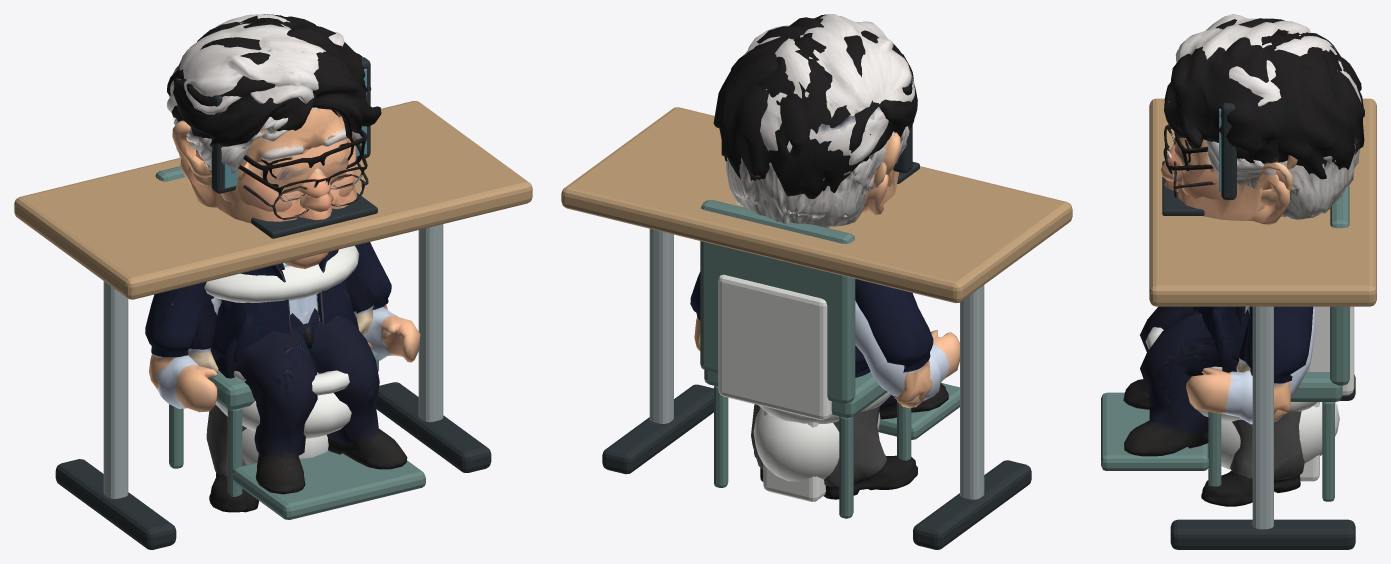
Rendered from school-residents.glb.
3 renders of one model, left to right at view 1: azimuth 30°, elevation 25°; view 2: azimuth 150°, elevation 25°; view 3: azimuth 270°, elevation 25°, orthographic. The views are drawn at different scales.
Visible parts, largest first — view 1: desktop, duty-resident body, gate-resident body, principal-resident body, desk foot, adjustable leg, footrest, basin, vice-principal-resident body, cistern, chair leg, chair seat (+1 smaller); view 2: desktop, gate-resident body, cistern, principal-resident body, chair back, duty-resident body, adjustable leg, desk foot, chair leg.001, vice-principal-resident body, chair leg.003, footrest (+3 smaller); view 3: desktop, principal-resident body, duty-resident body, gate-resident body, desk foot, adjustable leg, cistern, footrest, chair back, vice-principal-resident body, chair leg.003, chair seat (+2 smaller).
Part boxes in pixels (box(x1,y1,x2,y2)): desktop: box(14, 101, 532, 299); duty-resident body: box(156, 107, 420, 494); gate-resident body: box(145, 14, 391, 512); principal-resident body: box(158, 14, 381, 512); desk foot: box(55, 57, 491, 549); adjustable leg: box(103, 224, 443, 498); footrest: box(232, 450, 425, 519); basin: box(204, 245, 359, 302); vice-principal-resident body: box(188, 15, 375, 372); cistern: box(215, 370, 351, 464); chair leg: box(227, 408, 242, 496); chair seat: box(208, 348, 378, 409); desktop: box(561, 107, 1072, 303); gate-resident body: box(690, 14, 933, 499); cistern: box(718, 274, 891, 481); principal-resident body: box(700, 14, 924, 498); chair back: box(700, 200, 855, 403); duty-resident body: box(726, 126, 959, 419); adjustable leg: box(649, 229, 984, 499); desk foot: box(602, 76, 1031, 549); chair leg.001: box(839, 416, 853, 518); vice-principal-resident body: box(731, 33, 875, 490); chair leg.003: box(714, 386, 728, 487); footrest: box(878, 383, 959, 439); desktop: box(1149, 98, 1376, 306); principal-resident body: box(1161, 18, 1364, 492); duty-resident body: box(1123, 137, 1359, 456); gate-resident body: box(1164, 14, 1361, 506); desk foot: box(1162, 102, 1355, 549); adjustable leg: box(1252, 306, 1273, 529); cistern: box(1145, 306, 1354, 470); footrest: box(1101, 392, 1208, 470); chair back: box(1330, 185, 1349, 385); vice-principal-resident body: box(1174, 29, 1345, 492); chair leg.003: box(1322, 402, 1334, 501); chair seat: box(1202, 371, 1342, 401).
Size of the model in its own units: 1.6 by 1.7 by 0.97.
Materials: 11 (4 with a texture image).
